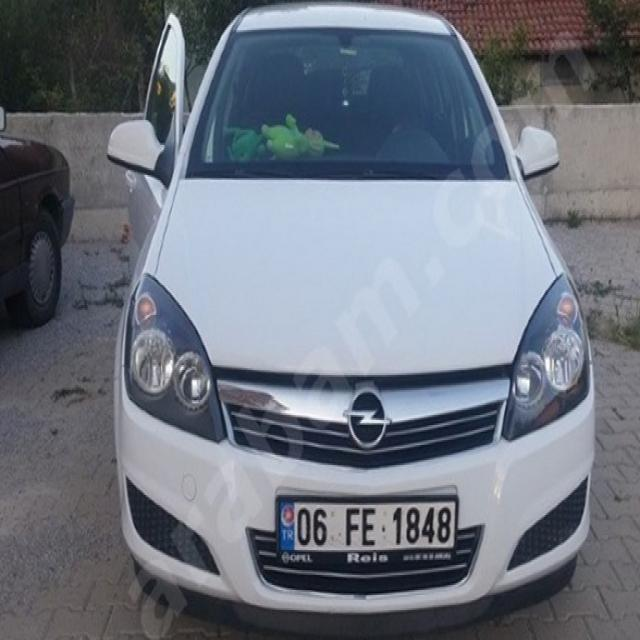license_plate: (275, 494, 455, 553)
